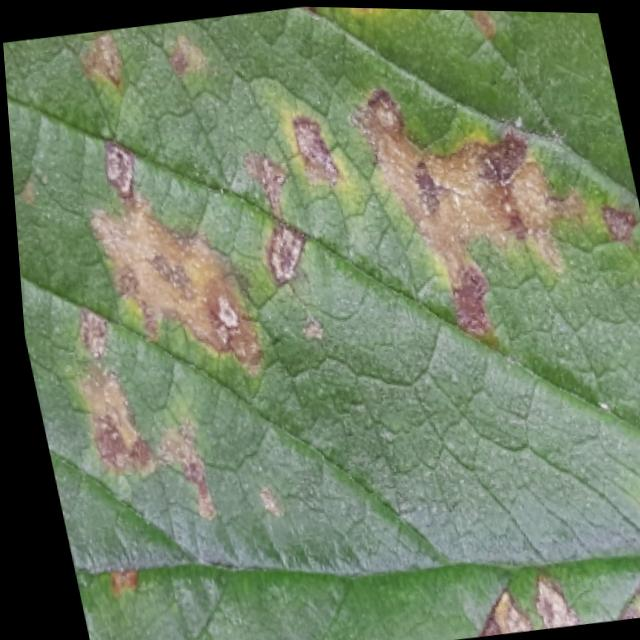Angular Leafspot: (2, 5, 640, 640)
